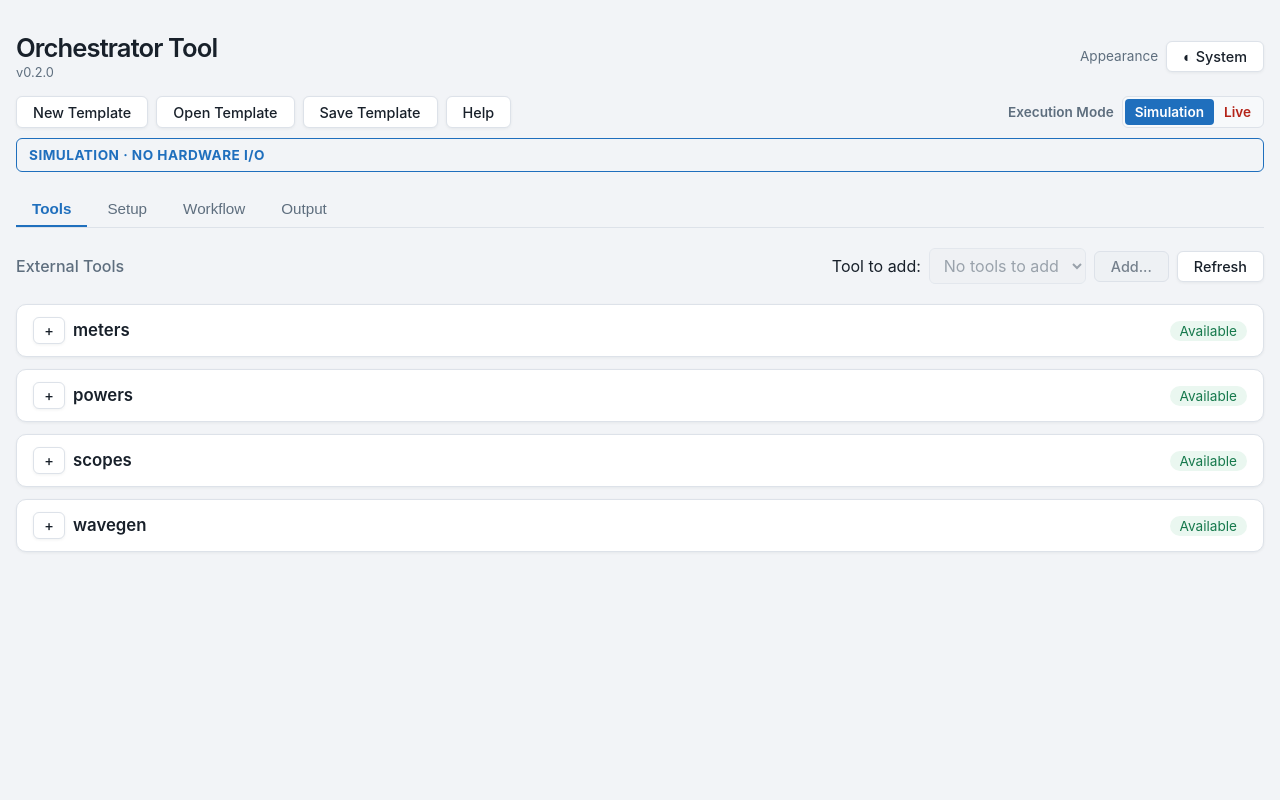
loading a Template with Background Charts and accepted overflow risk preserves setup and X axis on save
Expected: the button named "Expand powers details" is shown, [33,382,65,409]
Click the tab "Setup": x=127, y=210 [91,192,163,227]
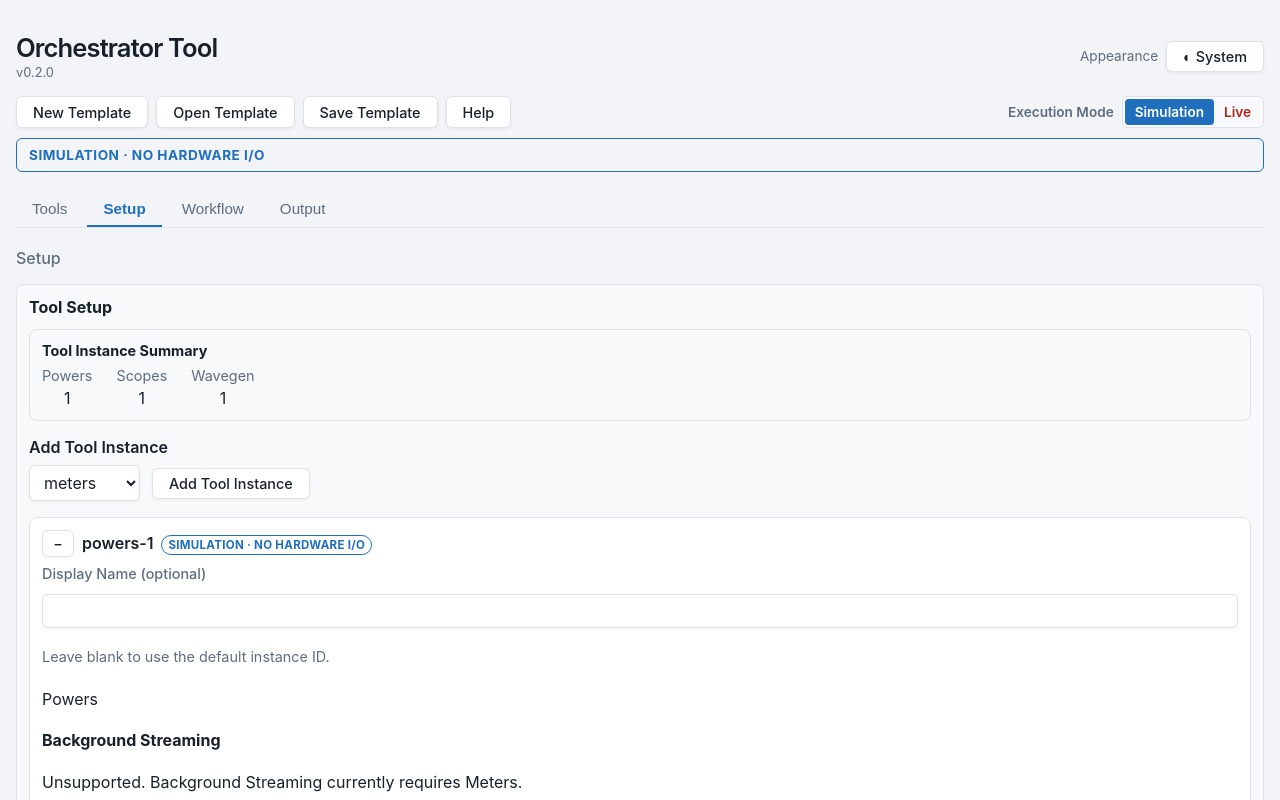
Expected: the button "Add Tool Instance" is enabled, [152,468,310,498]
Click the button "Open Template": x=225, y=112 [156,96,295,128]
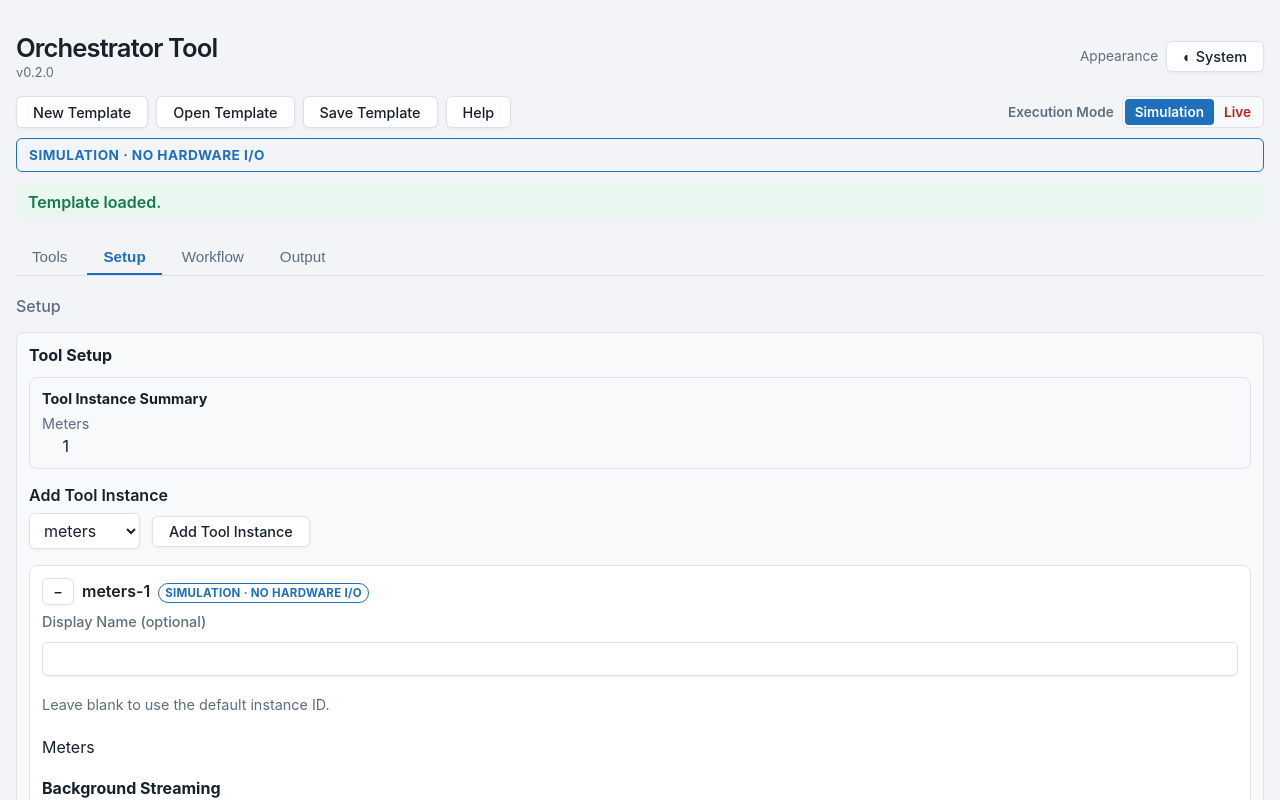
Expected: the text "Template loaded." is shown, [16,184,1264,220]
Click the button "Save Template": x=370, y=112 [303,96,438,128]
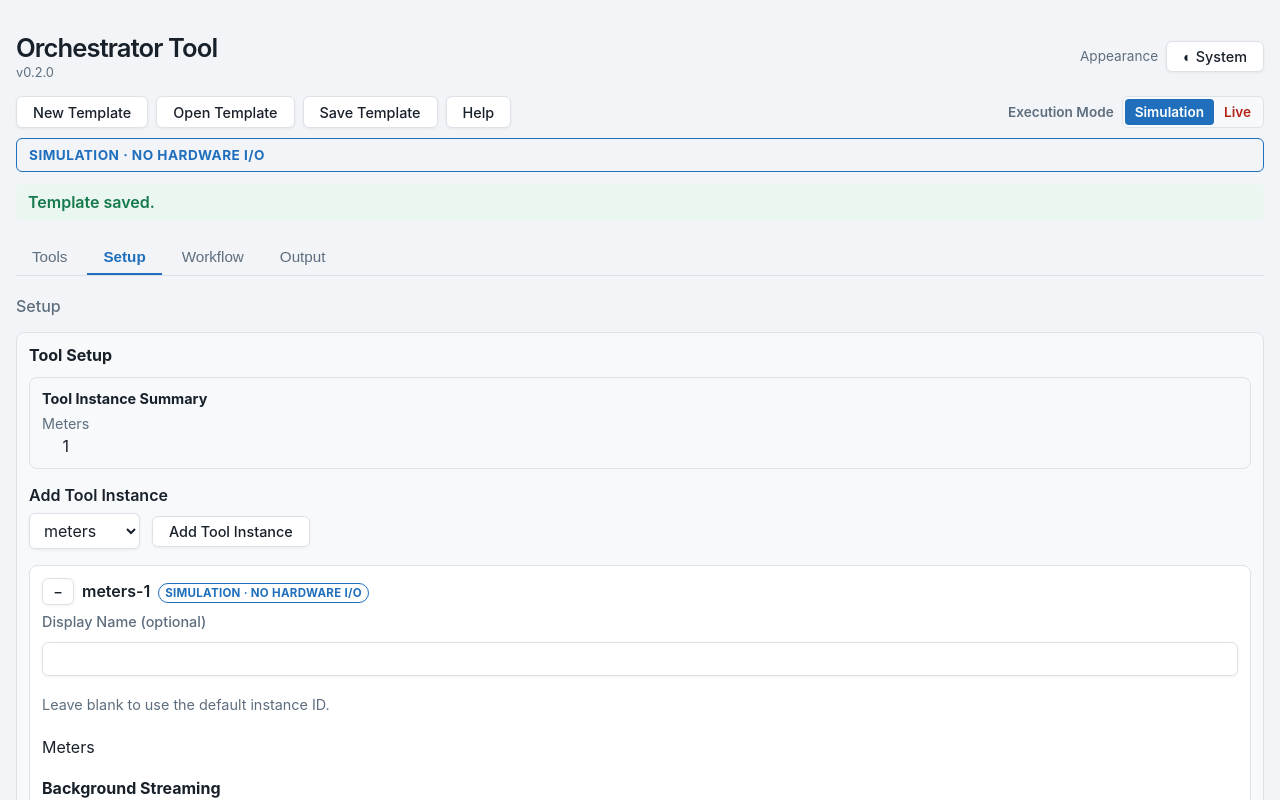
Expected: the text "Template saved." is shown, [16,184,1264,220]
